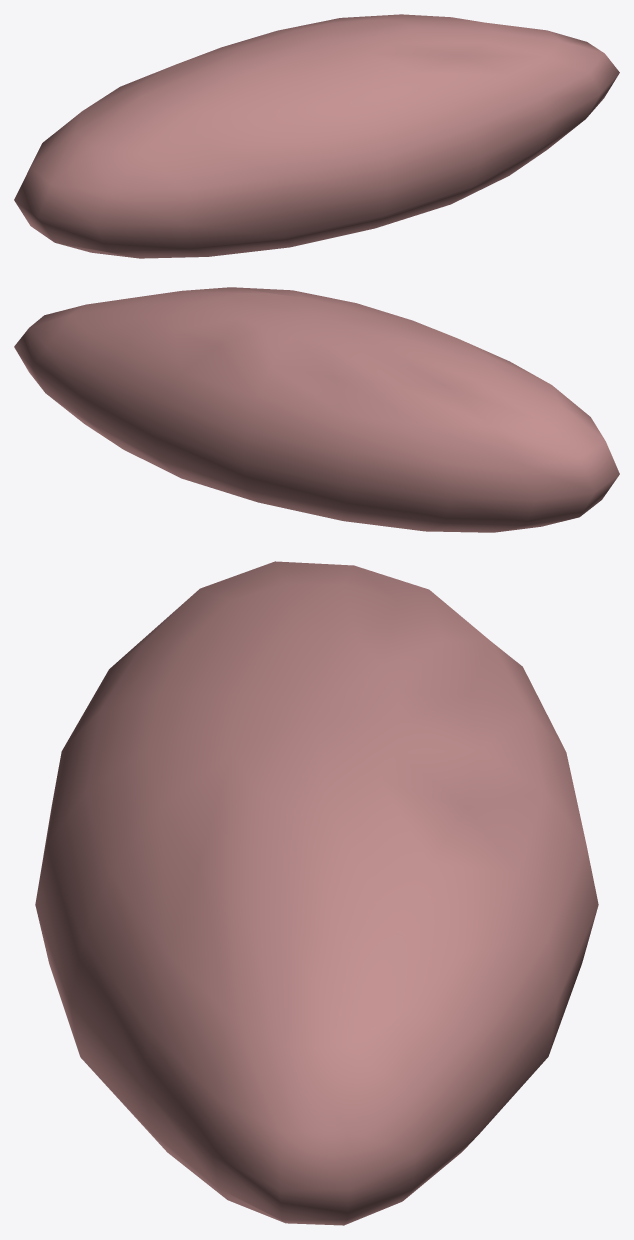
File: gale_ram_tongue.glb
3 views of the same model, one above another, from view 1: azimuth 30°, elevation 25°; view 2: azimuth 150°, elevation 25°; view 3: azimuth 270°, elevation 25° (orthographic). The views are drawn at different scales.
Visible parts, largest first — view 1: gale_ram_tongue; view 2: gale_ram_tongue; view 3: gale_ram_tongue.
Boxes of the visible parts, x1,y1,x2,y2 form: gale_ram_tongue: [14, 14, 619, 258]; gale_ram_tongue: [14, 287, 619, 532]; gale_ram_tongue: [35, 561, 598, 1225].
Bounding box in the file's own units: 0.12 × 0.03 × 0.05.
